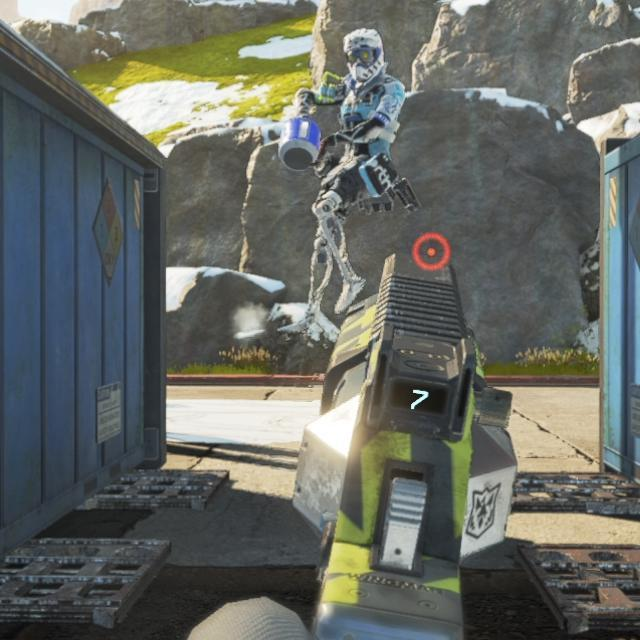avatar: (295, 23, 406, 322)
